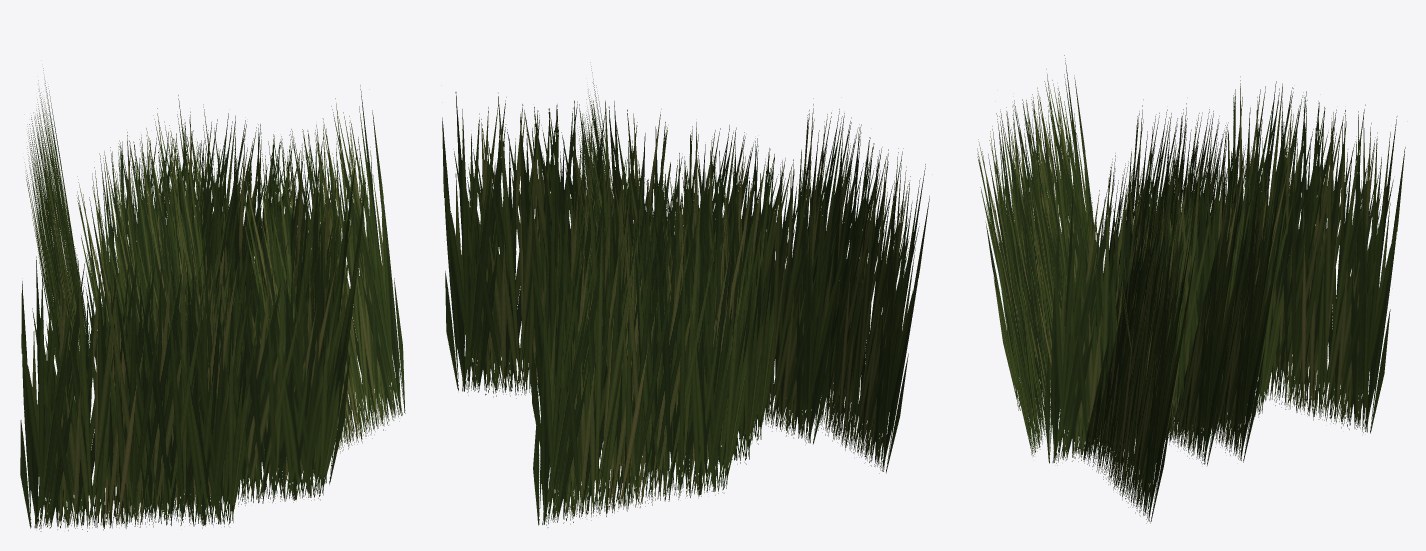
The model's file is GrassClump_2.fbx.
The picture shows the model from 3 angles, left to right: view 1: azimuth 30°, elevation 25°; view 2: azimuth 150°, elevation 25°; view 3: azimuth 270°, elevation 25°; orthographic projection. The views are drawn at different scales.
Visible parts, largest first — view 1: GrassClump_2; view 2: GrassClump_2; view 3: GrassClump_2.
Boxes of the visible parts, left/top/right/bottom form: GrassClump_2: left=20, top=68, right=405, bottom=531; GrassClump_2: left=442, top=62, right=929, bottom=527; GrassClump_2: left=977, top=55, right=1405, bottom=523.
Size of the model in its own units: 0.5371 by 0.4305 by 0.499.
